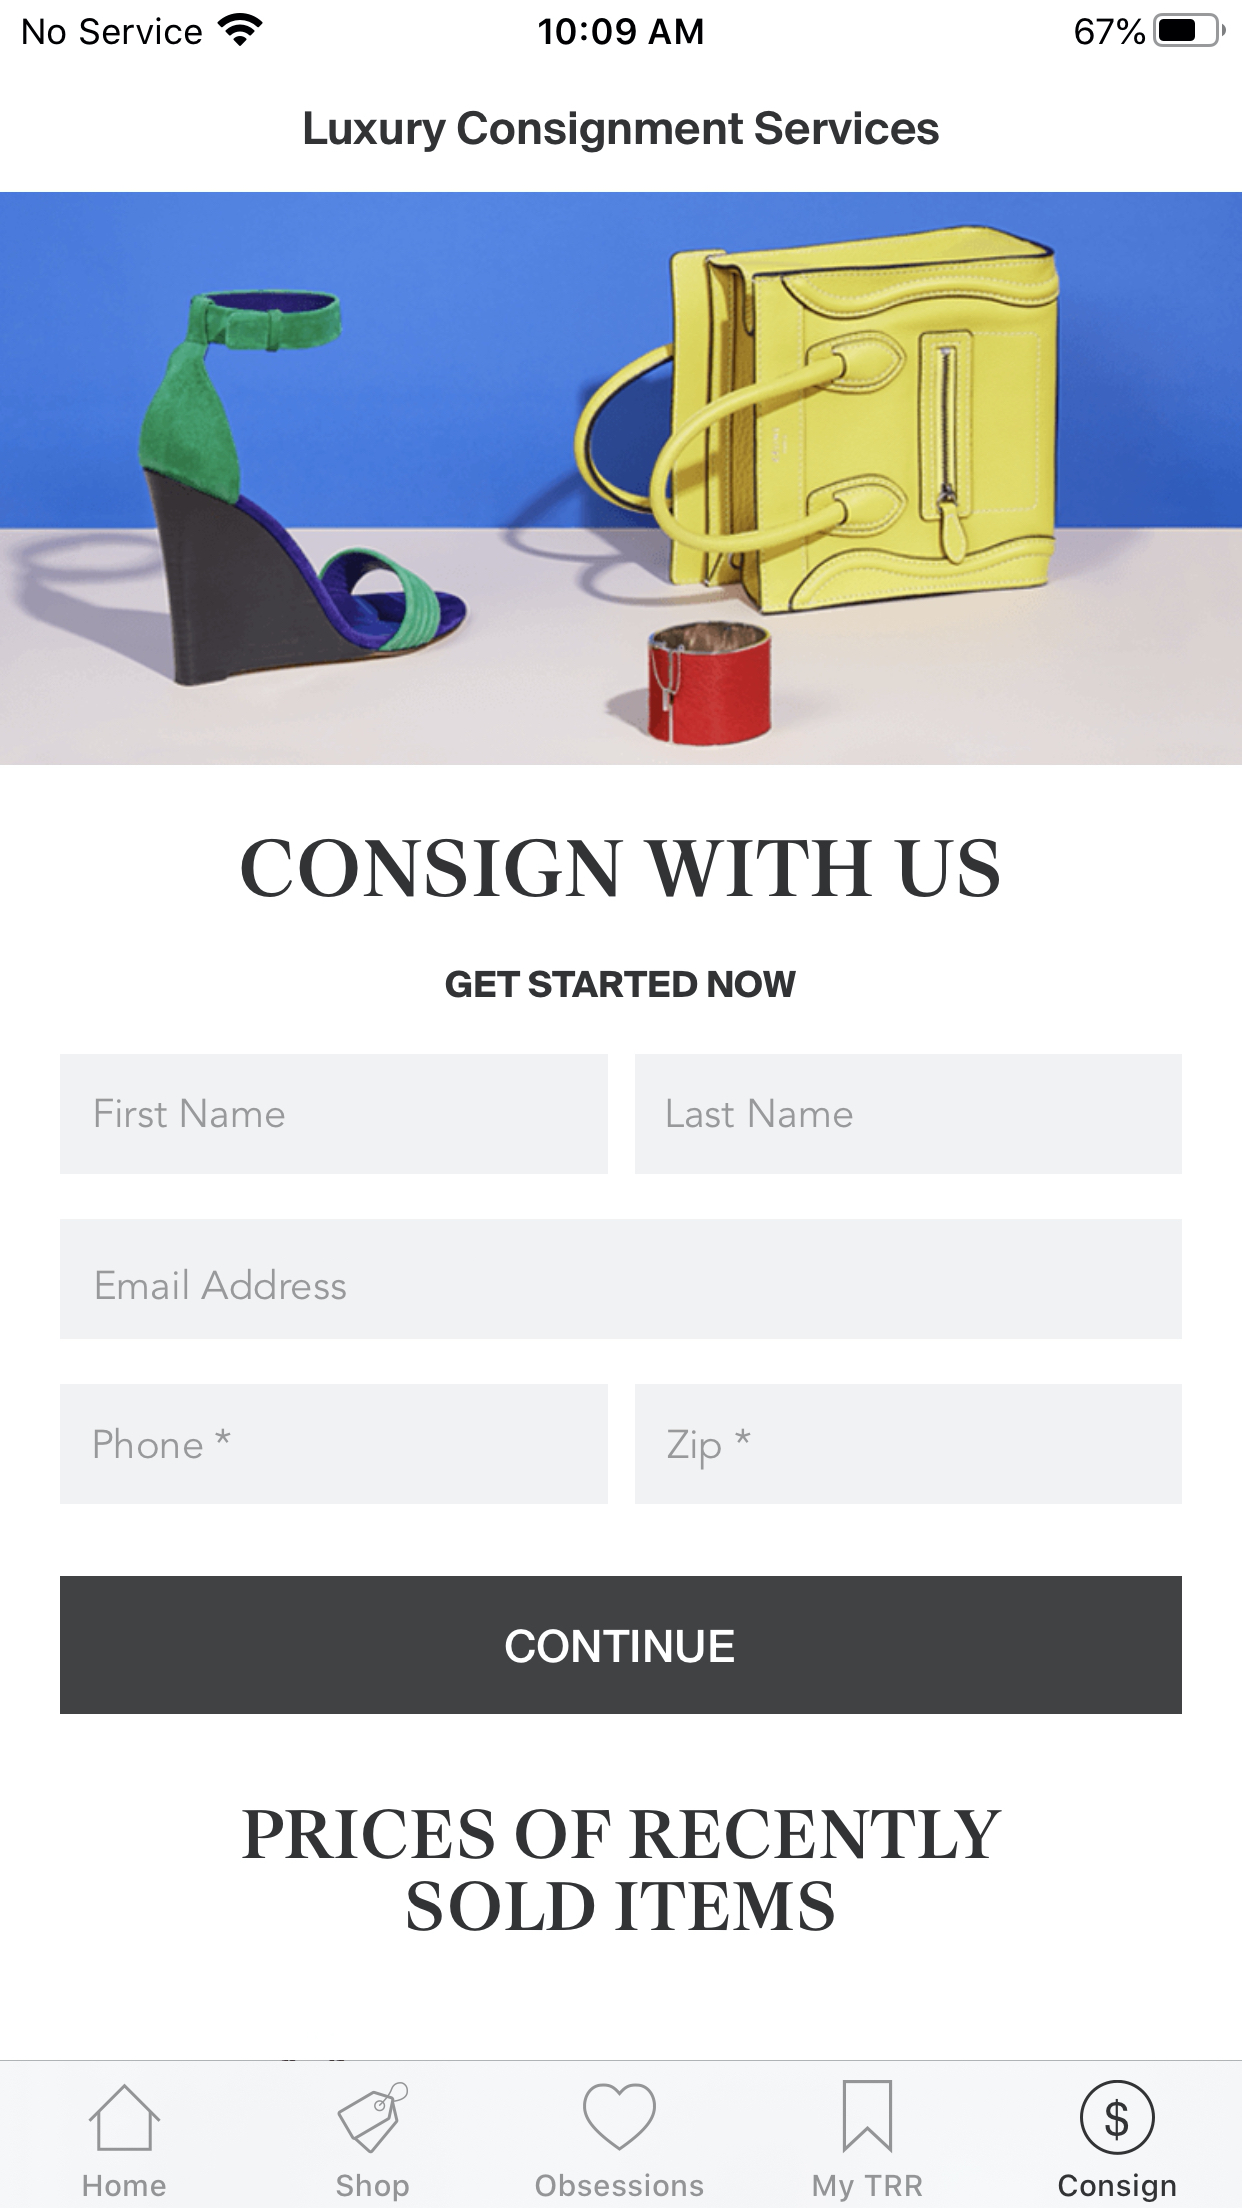EditText: (61, 1219, 1181, 1339), (61, 1385, 608, 1504), (61, 1054, 608, 1174), (635, 1385, 1181, 1504), (635, 1054, 1181, 1174)
Icon: (1080, 2081, 1156, 2153), (337, 2082, 408, 2153), (582, 2084, 657, 2150), (88, 2084, 161, 2150), (842, 2081, 893, 2153)
Image: (2, 193, 1242, 764)
Text: (243, 1809, 1002, 1930), (241, 839, 999, 898), (303, 111, 939, 153), (444, 971, 796, 998), (96, 1268, 346, 1300), (96, 1098, 285, 1128), (667, 1098, 852, 1128), (94, 1427, 231, 1459), (535, 2173, 704, 2196), (667, 1429, 751, 1469), (1059, 2172, 1175, 2200), (813, 2175, 922, 2202), (337, 2173, 409, 2202), (83, 2175, 165, 2197)
TextButton: (61, 1576, 1181, 1714)
UpperTaskBar: (2, 2, 1242, 49)
